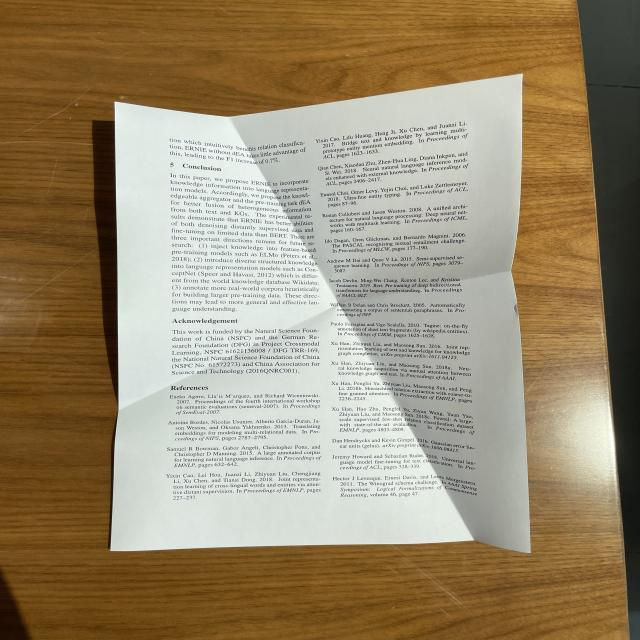document: (112, 75, 530, 552)
